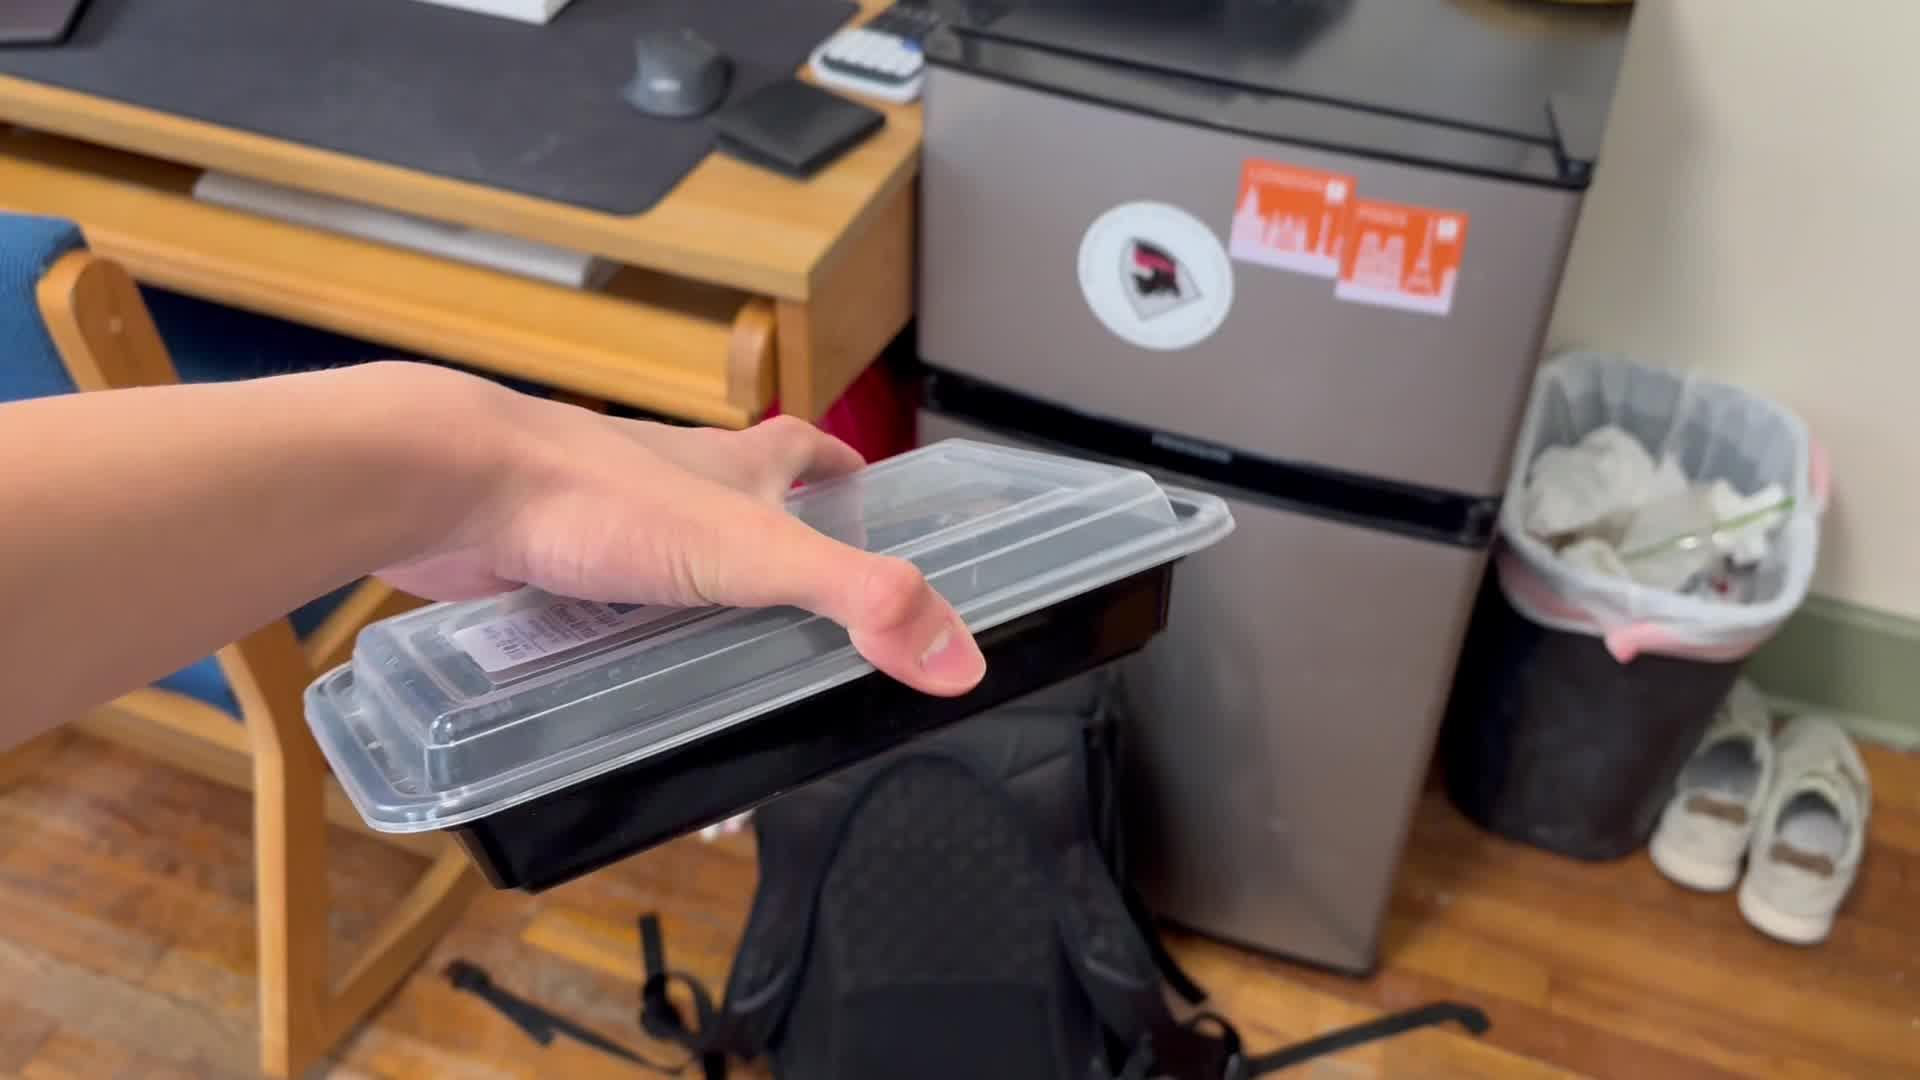lp_cup_lids: (315, 440, 1208, 880)
